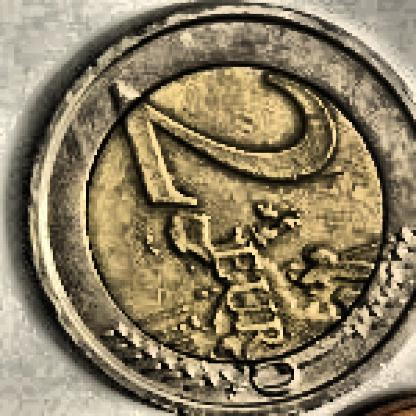coin: (25, 0, 413, 413)
